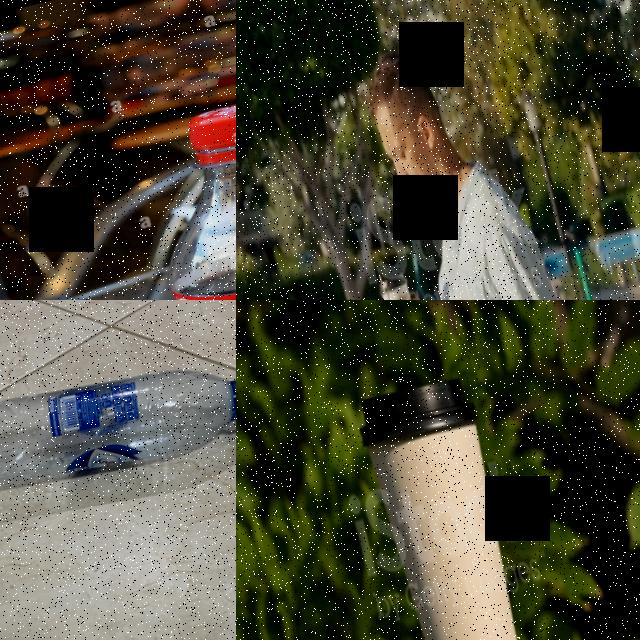bottle: (0, 324, 236, 530), (124, 82, 236, 300)
cup: (353, 372, 555, 640), (373, 267, 427, 300)
